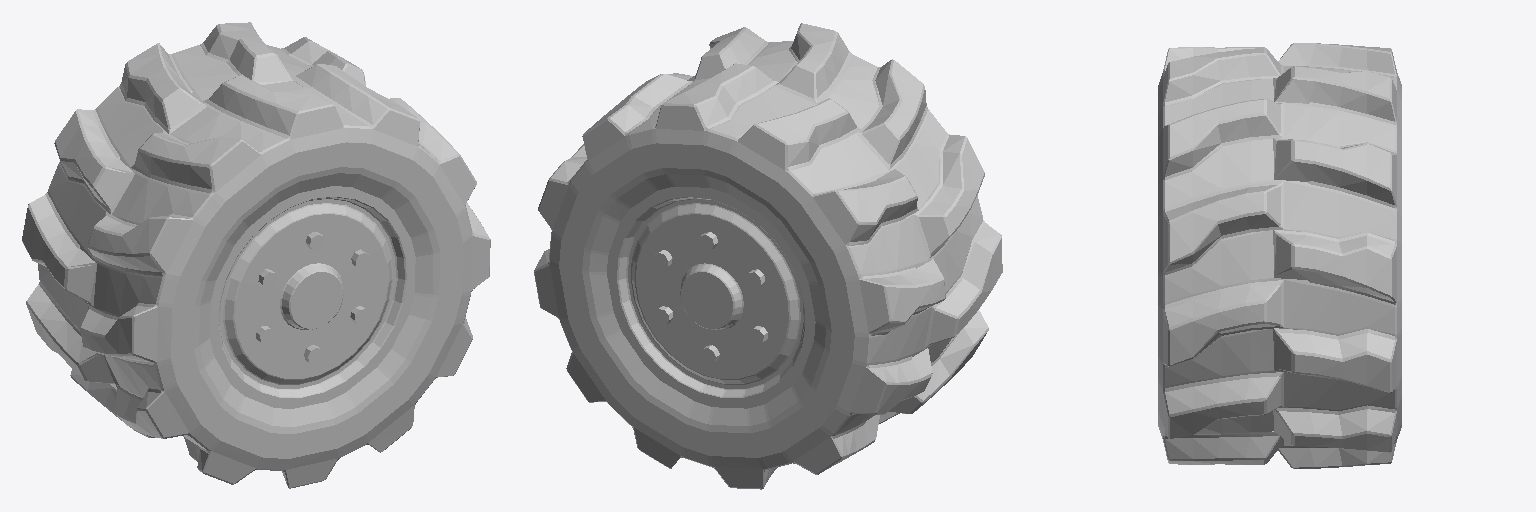
File: obj_wheels_large_medium.obj
The picture shows the model from 3 angles: view 1: azimuth 30°, elevation 25°; view 2: azimuth 150°, elevation 25°; view 3: azimuth 270°, elevation 25°; orthographic projection.
Visible parts, largest first — view 1: Plane.002_Plane.003; view 2: Plane.002_Plane.003; view 3: Plane.002_Plane.003.
Boxes of the visible parts, box(x1,y1,x2,y2) form: Plane.002_Plane.003: box(22, 22, 490, 488); Plane.002_Plane.003: box(534, 23, 1002, 489); Plane.002_Plane.003: box(1158, 43, 1401, 468).
Bounding box in the file's own units: 6.98 × 6.98 × 3.99.